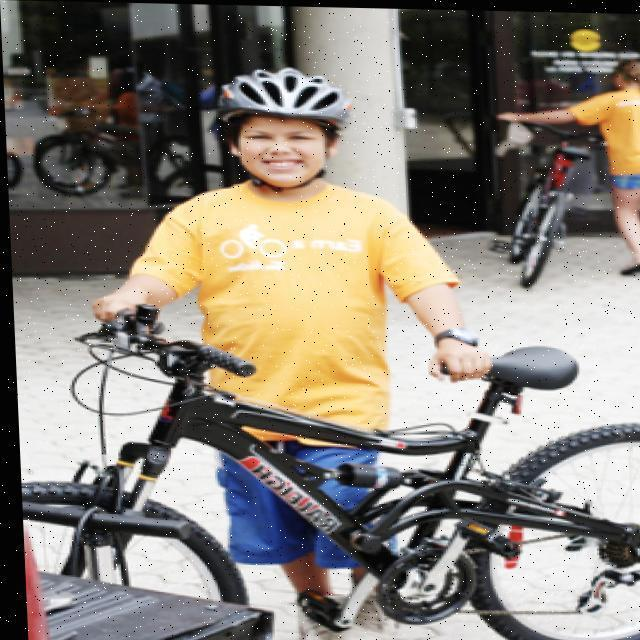Helmet: (202, 58, 366, 197)
